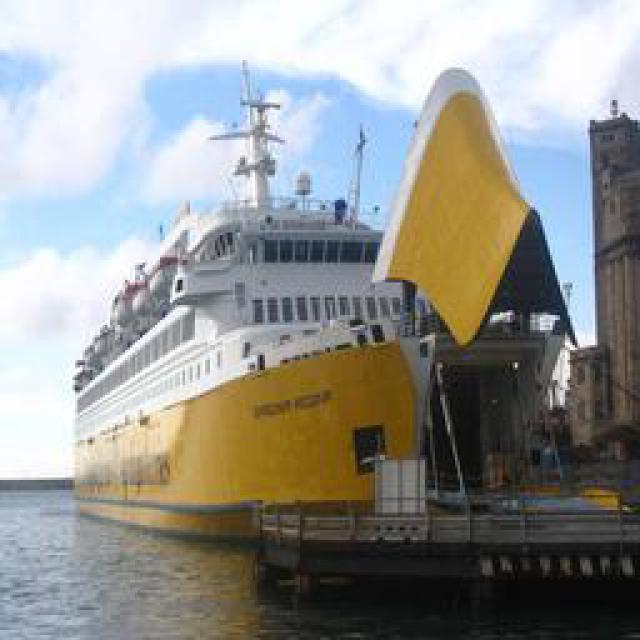Ship: (81, 36, 624, 564)
